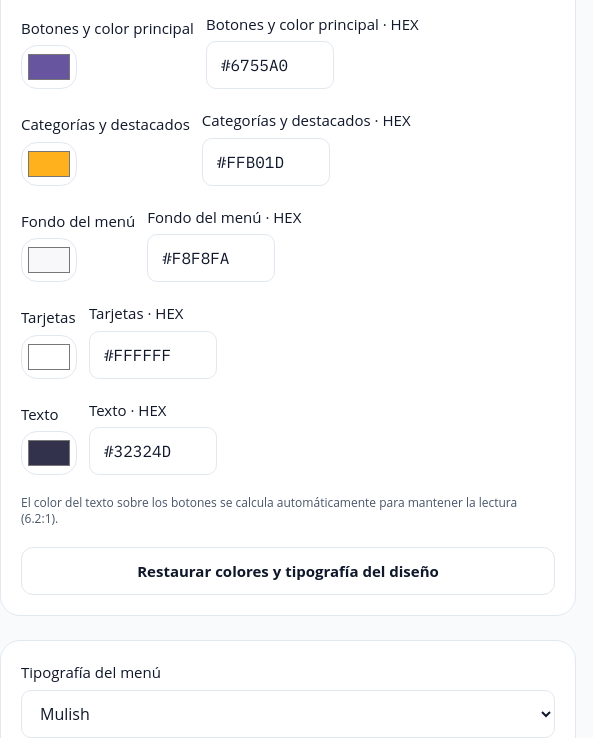
Test: blocks unreadable text on cards and preserves changes after a failed save
(page scrolled)
Replace the text in the field labelled "Tarjetas · HEX" with "#32324D": (153, 354) [89,330,217,378]
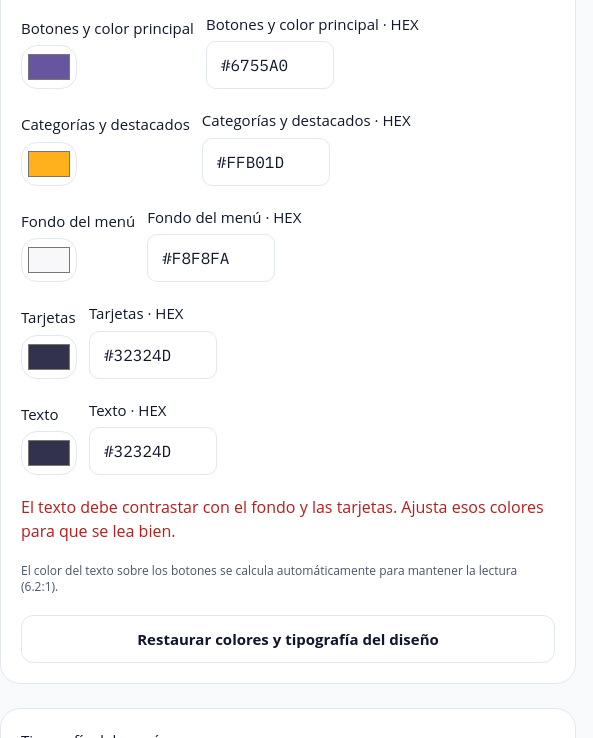
Replace the text in the field labelled "Tarjetas · HEX" with "#FFFFFF": (153, 354) [89,330,217,378]
(page scrolled)
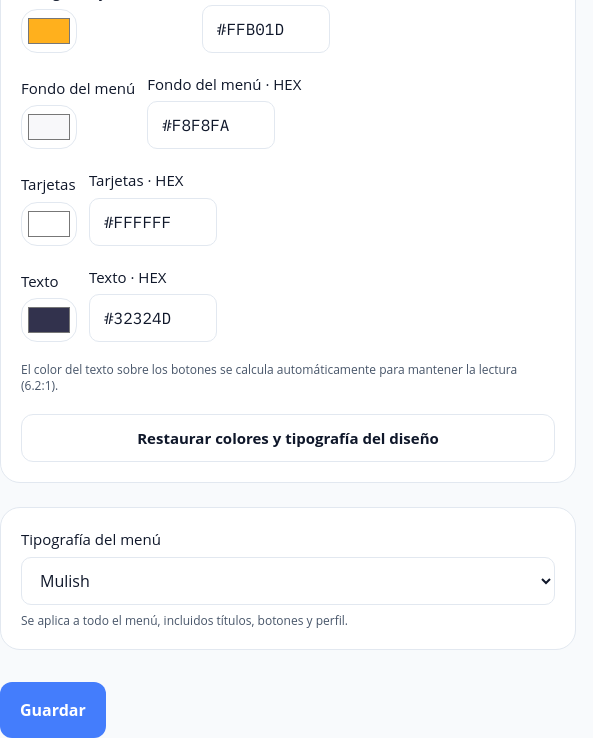
Click the button "Guardar": click(53, 710) [0,682,106,737]
(page scrolled)
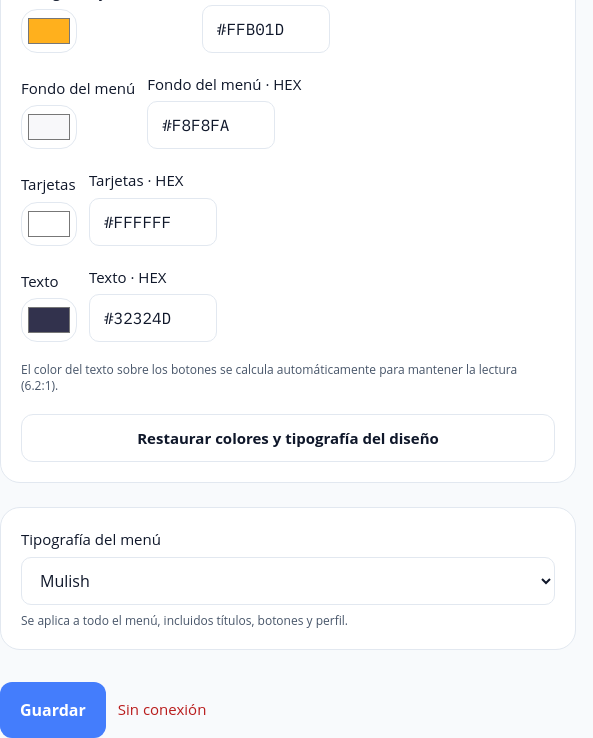
Expected: the text "Sin conexión" is shown, [118,698,206,721]
